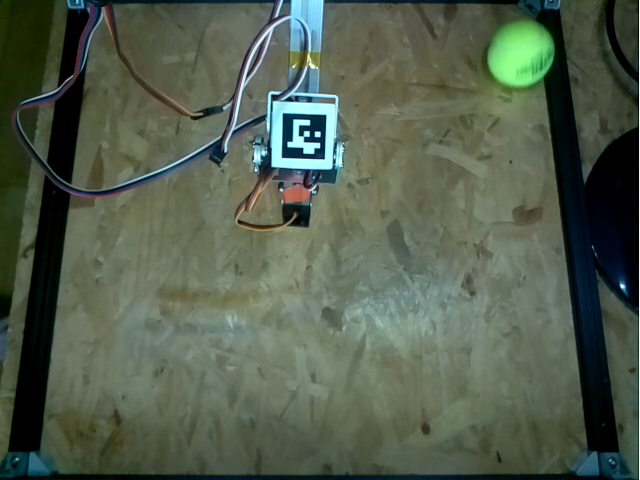tennis_ball: (487, 19, 557, 87)
